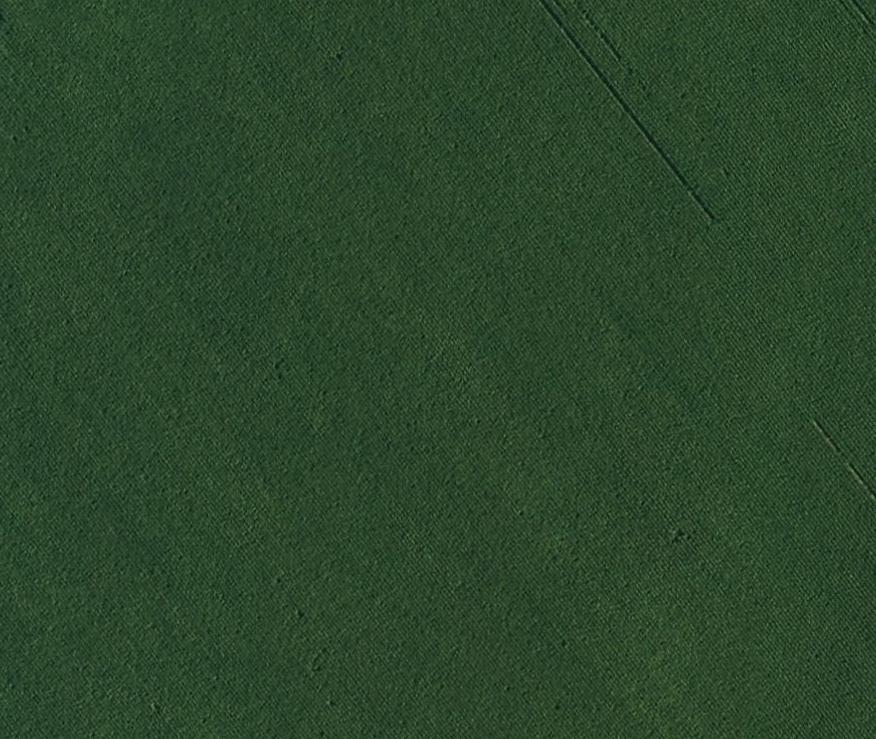field: (0, 0, 876, 736)
